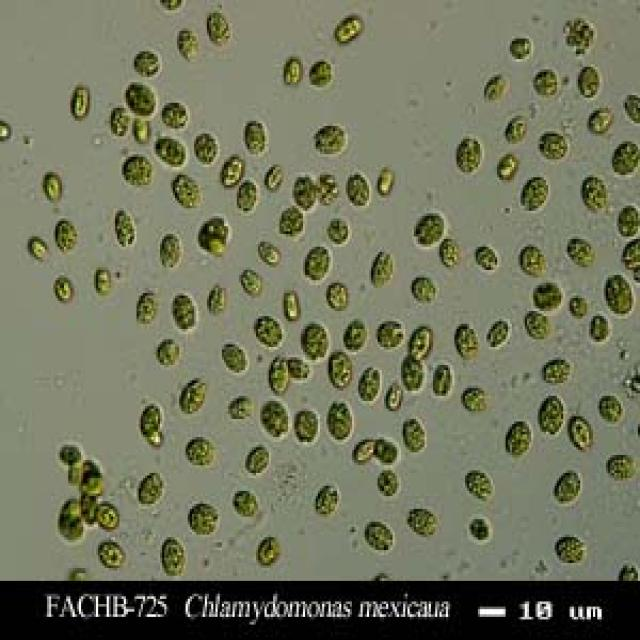Green Algae: (256, 393, 292, 442), (296, 316, 331, 363), (599, 275, 636, 319), (606, 134, 640, 180), (553, 534, 595, 570), (363, 516, 399, 558), (322, 393, 352, 442), (170, 172, 202, 216), (409, 213, 446, 250), (459, 465, 497, 501), (183, 498, 220, 534), (198, 213, 230, 254), (124, 80, 160, 116), (520, 175, 554, 213), (134, 401, 168, 439), (454, 134, 484, 177), (580, 175, 610, 218), (598, 388, 628, 429), (399, 414, 429, 455), (290, 406, 320, 447), (241, 116, 269, 159), (536, 398, 566, 437), (132, 46, 164, 82), (406, 501, 438, 537), (252, 532, 284, 568), (160, 532, 186, 576), (554, 468, 584, 506), (333, 13, 367, 46), (314, 121, 348, 154), (532, 278, 566, 311), (506, 417, 533, 458), (233, 172, 258, 216), (96, 496, 124, 535), (529, 66, 563, 98), (120, 154, 152, 188), (586, 103, 616, 139), (499, 110, 529, 146), (58, 502, 85, 542), (339, 314, 367, 352), (179, 378, 207, 416), (298, 247, 330, 280), (152, 136, 186, 167), (222, 339, 249, 378), (135, 470, 162, 509), (173, 290, 198, 332), (369, 250, 395, 290), (358, 363, 382, 406), (183, 437, 216, 468), (316, 478, 339, 522), (68, 80, 96, 116), (292, 172, 316, 214), (245, 442, 273, 478), (408, 322, 433, 362), (480, 72, 512, 103), (348, 170, 371, 213), (578, 61, 602, 102), (399, 352, 424, 391), (205, 10, 232, 46), (371, 434, 401, 466), (96, 540, 128, 570), (329, 352, 352, 393), (269, 355, 292, 396), (194, 134, 220, 170), (540, 126, 570, 157), (307, 54, 335, 87), (113, 206, 134, 249), (476, 239, 501, 275), (540, 355, 572, 383), (252, 319, 284, 347), (233, 486, 260, 519), (258, 236, 284, 270), (429, 360, 452, 398), (616, 200, 640, 236), (412, 272, 439, 304), (53, 216, 79, 249), (205, 280, 230, 314), (378, 465, 403, 499), (158, 232, 179, 272), (156, 337, 183, 368), (587, 306, 610, 342), (570, 234, 593, 270), (570, 411, 591, 450), (239, 264, 264, 296), (177, 26, 198, 64), (606, 452, 636, 478), (282, 206, 305, 239), (489, 314, 512, 347), (456, 321, 478, 355), (160, 103, 192, 126), (326, 283, 352, 311), (518, 242, 540, 275), (527, 313, 552, 342), (461, 385, 486, 414), (508, 36, 535, 62), (378, 319, 403, 347), (107, 103, 128, 136), (326, 216, 352, 242), (53, 275, 77, 303), (284, 51, 301, 90), (43, 172, 64, 203), (226, 398, 252, 422), (26, 234, 49, 259), (136, 288, 154, 319), (58, 442, 81, 465), (132, 113, 150, 141), (442, 239, 458, 267)
